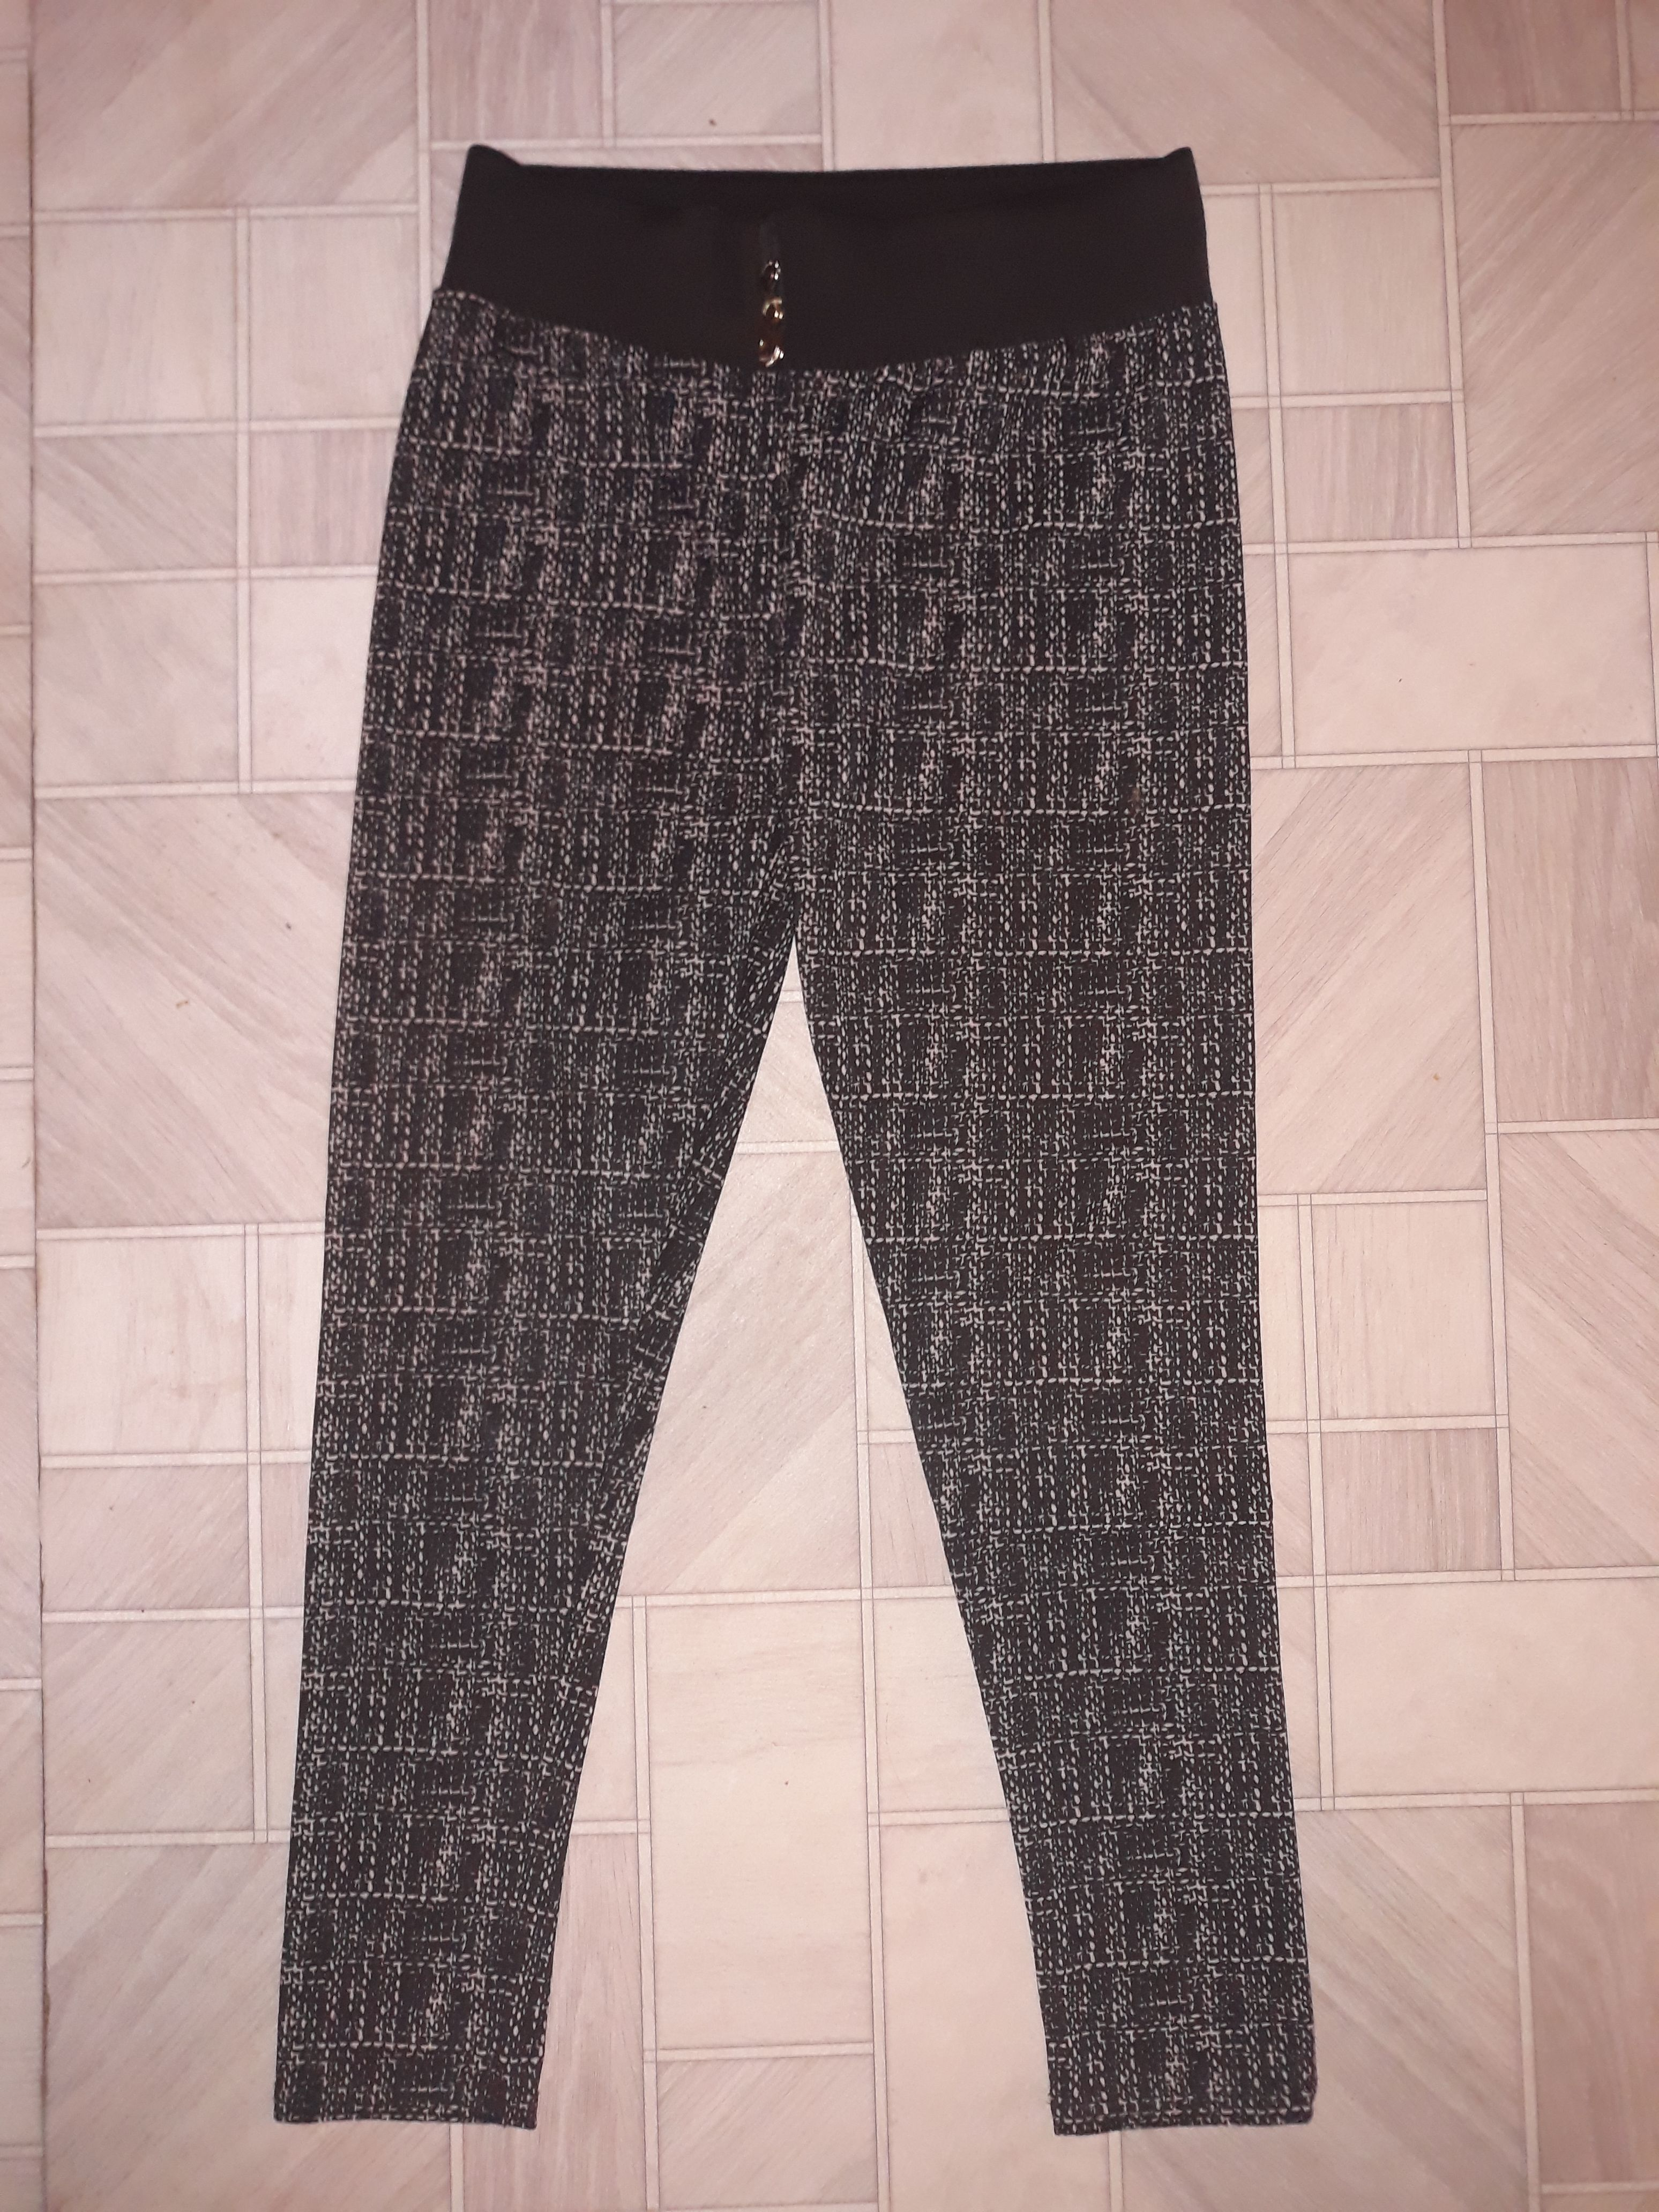clothes: (301, 111, 1337, 2144)
